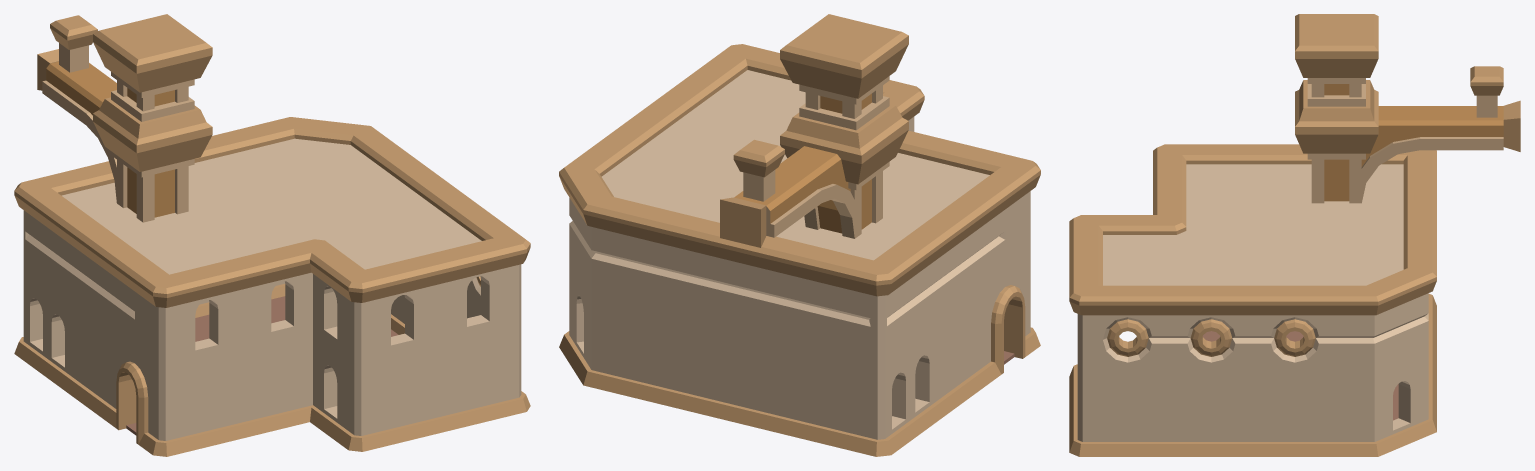
The model's file is DesertVillageHouseThree.fbx.
3 renders of one model, left to right at view 1: azimuth 30°, elevation 25°; view 2: azimuth 150°, elevation 25°; view 3: azimuth 270°, elevation 25°, orthographic. The views are drawn at different scales.
Visible parts, largest first — view 1: mergedBlocks; view 2: mergedBlocks; view 3: mergedBlocks.
Part boxes in pixels (x1,y1,x2,y2): mergedBlocks: (14,14,530,456); mergedBlocks: (559,14,1040,456); mergedBlocks: (1069,14,1520,456).
Size of the model in its own units: 44 by 41.5 by 54.
